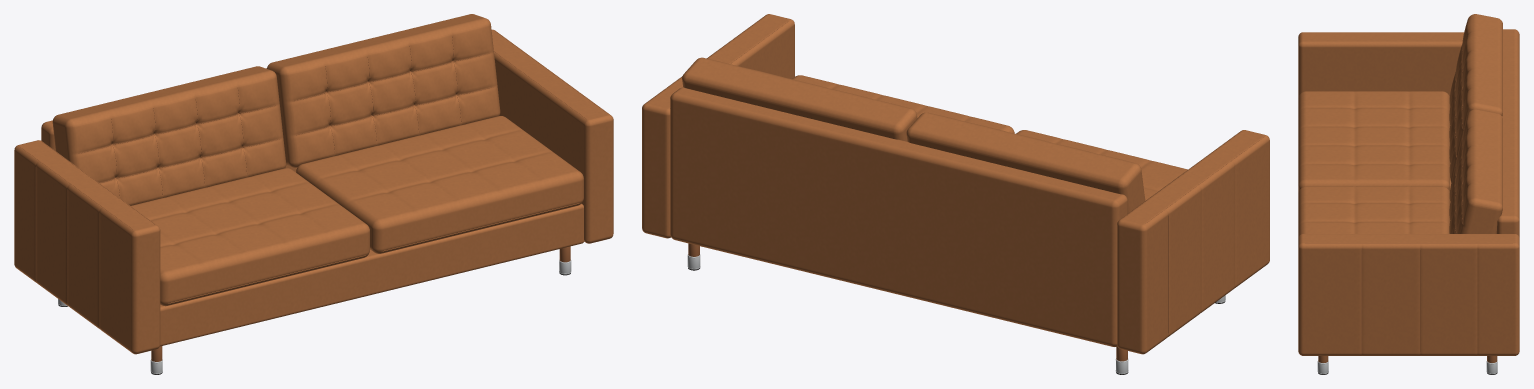
Rendered from orange_sofa.glb.
3 views of the same model, side by side, from view 1: azimuth 30°, elevation 25°; view 2: azimuth 150°, elevation 25°; view 3: azimuth 270°, elevation 25° (orthographic). The views are drawn at different scales.
Visible parts, largest first — view 1: Back_cushion_2, Seat_cushion_2, Back_cushion_1, Left_padded_arm, Seat_cushion_1, Upholstered_front_apron_and_base, Right_padded_arm, Back_sewn_channels_2, Back_sewn_channels_1; view 2: Rear_upholstered_support_assumed, Left_padded_arm, Back_cushion_1, Back_cushion_2, Right_padded_arm, Seat_cushion_1, Seat_cushion_2; view 3: Right_padded_arm, Seat_cushion_1, Left_padded_arm, Seat_cushion_2, Back_cushion_2, Back_cushion_1, Rear_upholstered_support_assumed, Right_arm_top_stitch, Right_outer_arm_panel_seams.
Part boxes in pixels (box(x1,y1,x2,y2)): Back_cushion_2: box(267, 14, 500, 167); Seat_cushion_2: box(296, 116, 583, 253); Back_cushion_1: box(52, 66, 286, 205); Left_padded_arm: box(14, 140, 160, 354); Seat_cushion_1: box(131, 168, 369, 306); Upholstered_front_apron_and_base: box(160, 203, 584, 346); Right_padded_arm: box(491, 29, 613, 243); Back_sewn_channels_2: box(292, 36, 493, 152); Back_sewn_channels_1: box(79, 89, 279, 197); Rear_upholstered_support_assumed: box(670, 87, 1127, 346); Left_padded_arm: box(1117, 130, 1269, 354); Back_cushion_1: box(906, 112, 1145, 213); Back_cushion_2: box(682, 57, 917, 141); Right_padded_arm: box(642, 14, 794, 238); Seat_cushion_1: box(1016, 130, 1187, 200); Seat_cushion_2: box(792, 75, 1014, 133); Right_padded_arm: box(1298, 234, 1519, 355); Seat_cushion_1: box(1298, 91, 1449, 192); Left_padded_arm: box(1298, 32, 1463, 107); Seat_cushion_2: box(1298, 186, 1449, 237); Back_cushion_2: box(1449, 109, 1502, 233); Back_cushion_1: box(1449, 14, 1502, 182); Rear_upholstered_support_assumed: box(1496, 29, 1519, 237); Right_arm_top_stitch: box(1305, 243, 1512, 243); Right_outer_arm_panel_seams: box(1361, 250, 1420, 351).
Bounding box in the file's own units: 2.04 × 0.78 × 0.89.
5 materials, 1 textured.
